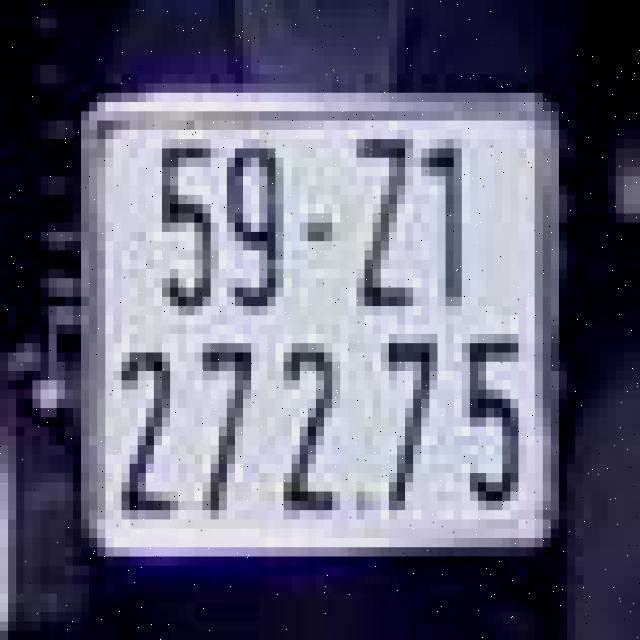1: (417, 134, 482, 320)
2: (114, 348, 186, 524), (276, 338, 348, 514)
5: (150, 134, 223, 320), (458, 334, 530, 510)
7: (376, 334, 442, 519), (194, 338, 260, 514)
9: (226, 130, 292, 306)
Z: (344, 125, 426, 311)
